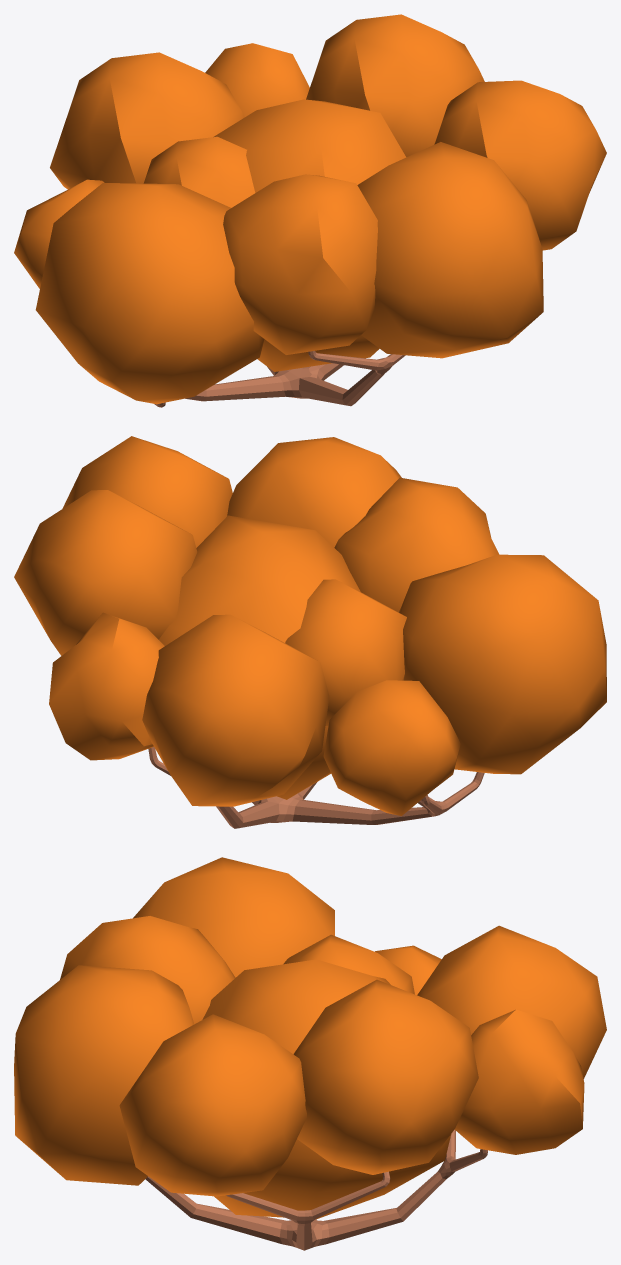
File: Bush02.fbx
The picture shows the model from 3 angles, top to bottom: view 1: azimuth 30°, elevation 25°; view 2: azimuth 150°, elevation 25°; view 3: azimuth 270°, elevation 25°; orthographic projection. The views are drawn at different scales.
Parts seen in each view (by area): view 1: Icosphere.005, Plane.008; view 2: Icosphere.005, Plane.008; view 3: Icosphere.005, Plane.008.
Boxes of the visible parts, x1=… form: Icosphere.005: x1=14, y1=14, x2=606, y2=404; Plane.008: x1=154, y1=351, x2=405, y2=407; Icosphere.005: x1=14, y1=436, x2=606, y2=815; Plane.008: x1=148, y1=747, x2=484, y2=828; Icosphere.005: x1=14, y1=857, x2=606, y2=1219; Plane.008: x1=145, y1=1129, x2=487, y2=1250.
Size of the model in its own units: 203 by 115 by 190.
